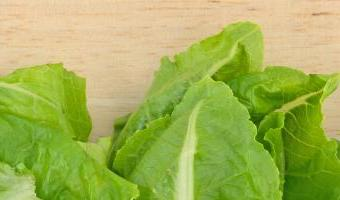chopped lettuce: (152, 49, 307, 193)
